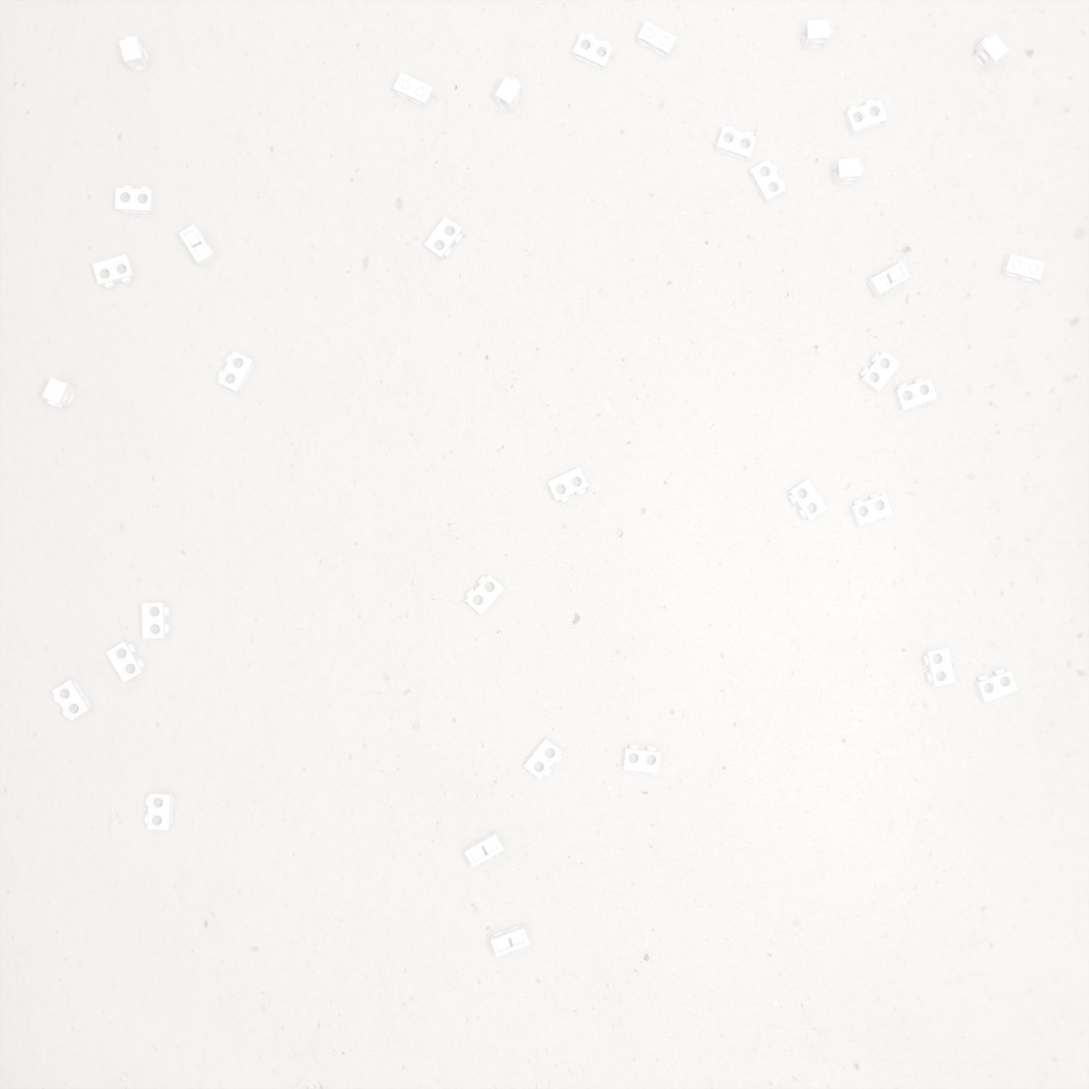lego: (52, 678, 94, 721), (859, 351, 901, 393), (424, 216, 463, 260), (748, 159, 786, 204), (788, 479, 828, 521), (106, 641, 146, 683), (572, 32, 614, 72), (524, 737, 563, 780), (636, 20, 677, 60), (465, 574, 505, 615), (218, 351, 256, 394), (179, 224, 217, 267), (844, 99, 888, 136), (867, 261, 911, 298), (973, 668, 1019, 703), (92, 254, 137, 289), (715, 125, 757, 162), (464, 830, 504, 868), (393, 72, 434, 109), (849, 492, 893, 526), (893, 377, 937, 411), (972, 34, 1010, 73), (548, 467, 588, 503), (1000, 253, 1045, 283), (491, 923, 530, 957), (922, 647, 955, 687), (115, 185, 156, 215), (119, 36, 151, 73), (623, 744, 661, 774), (145, 791, 174, 830), (42, 377, 78, 408), (141, 602, 171, 639), (495, 76, 522, 114), (801, 19, 832, 50), (832, 158, 864, 186)
